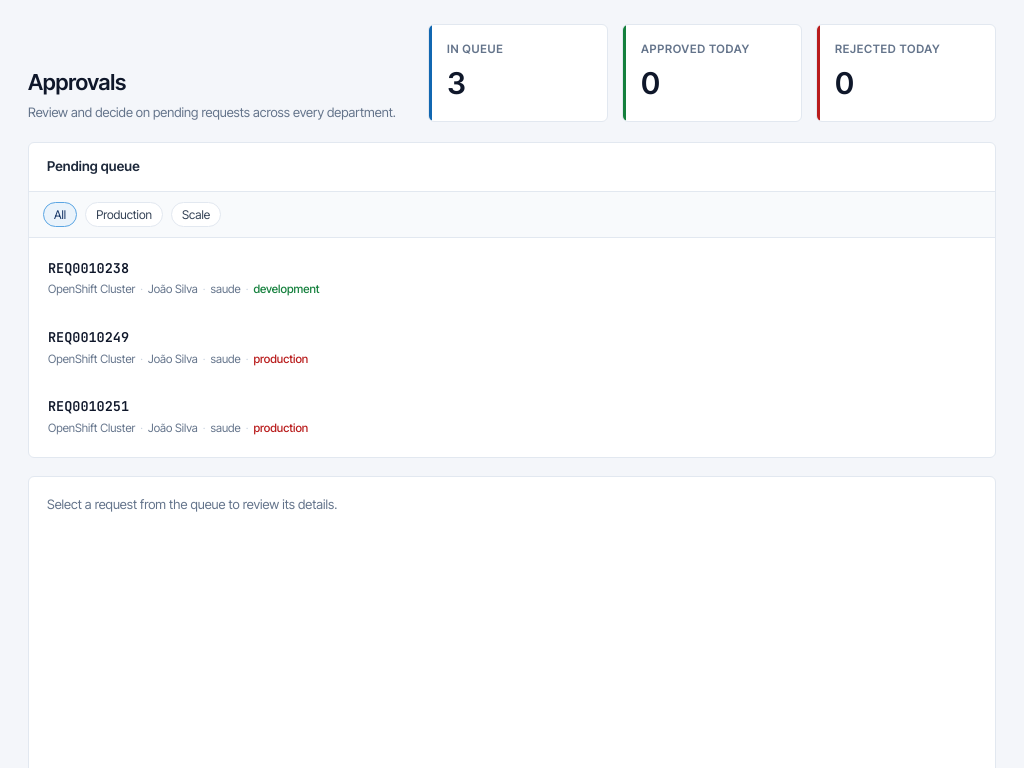
Test: Approvals › clicking the Production chip filters queue to env="production" only
Click the button with class "filter-chip" showing "Production". click: (124, 214)
box: [85,202,163,227]
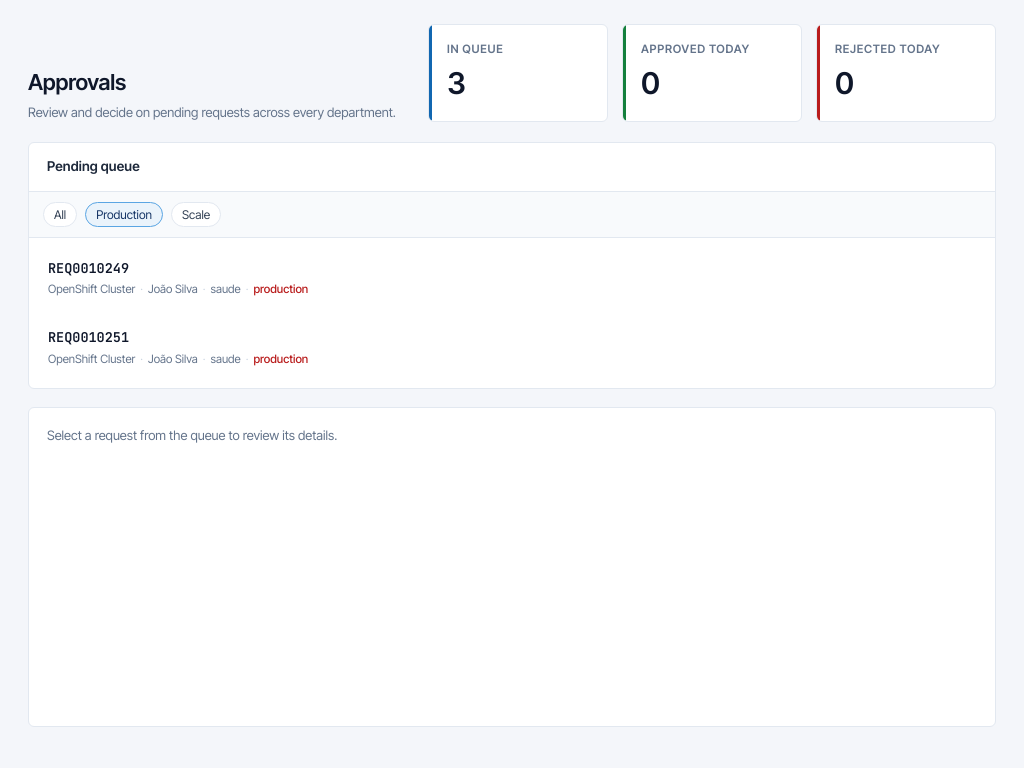
Check: the number of buttons with class "approval-row" is 2, box [48,259,308,296]; [48,328,308,366]
Check: the button "REQ0010238" no longer shows "REQ0010238"
